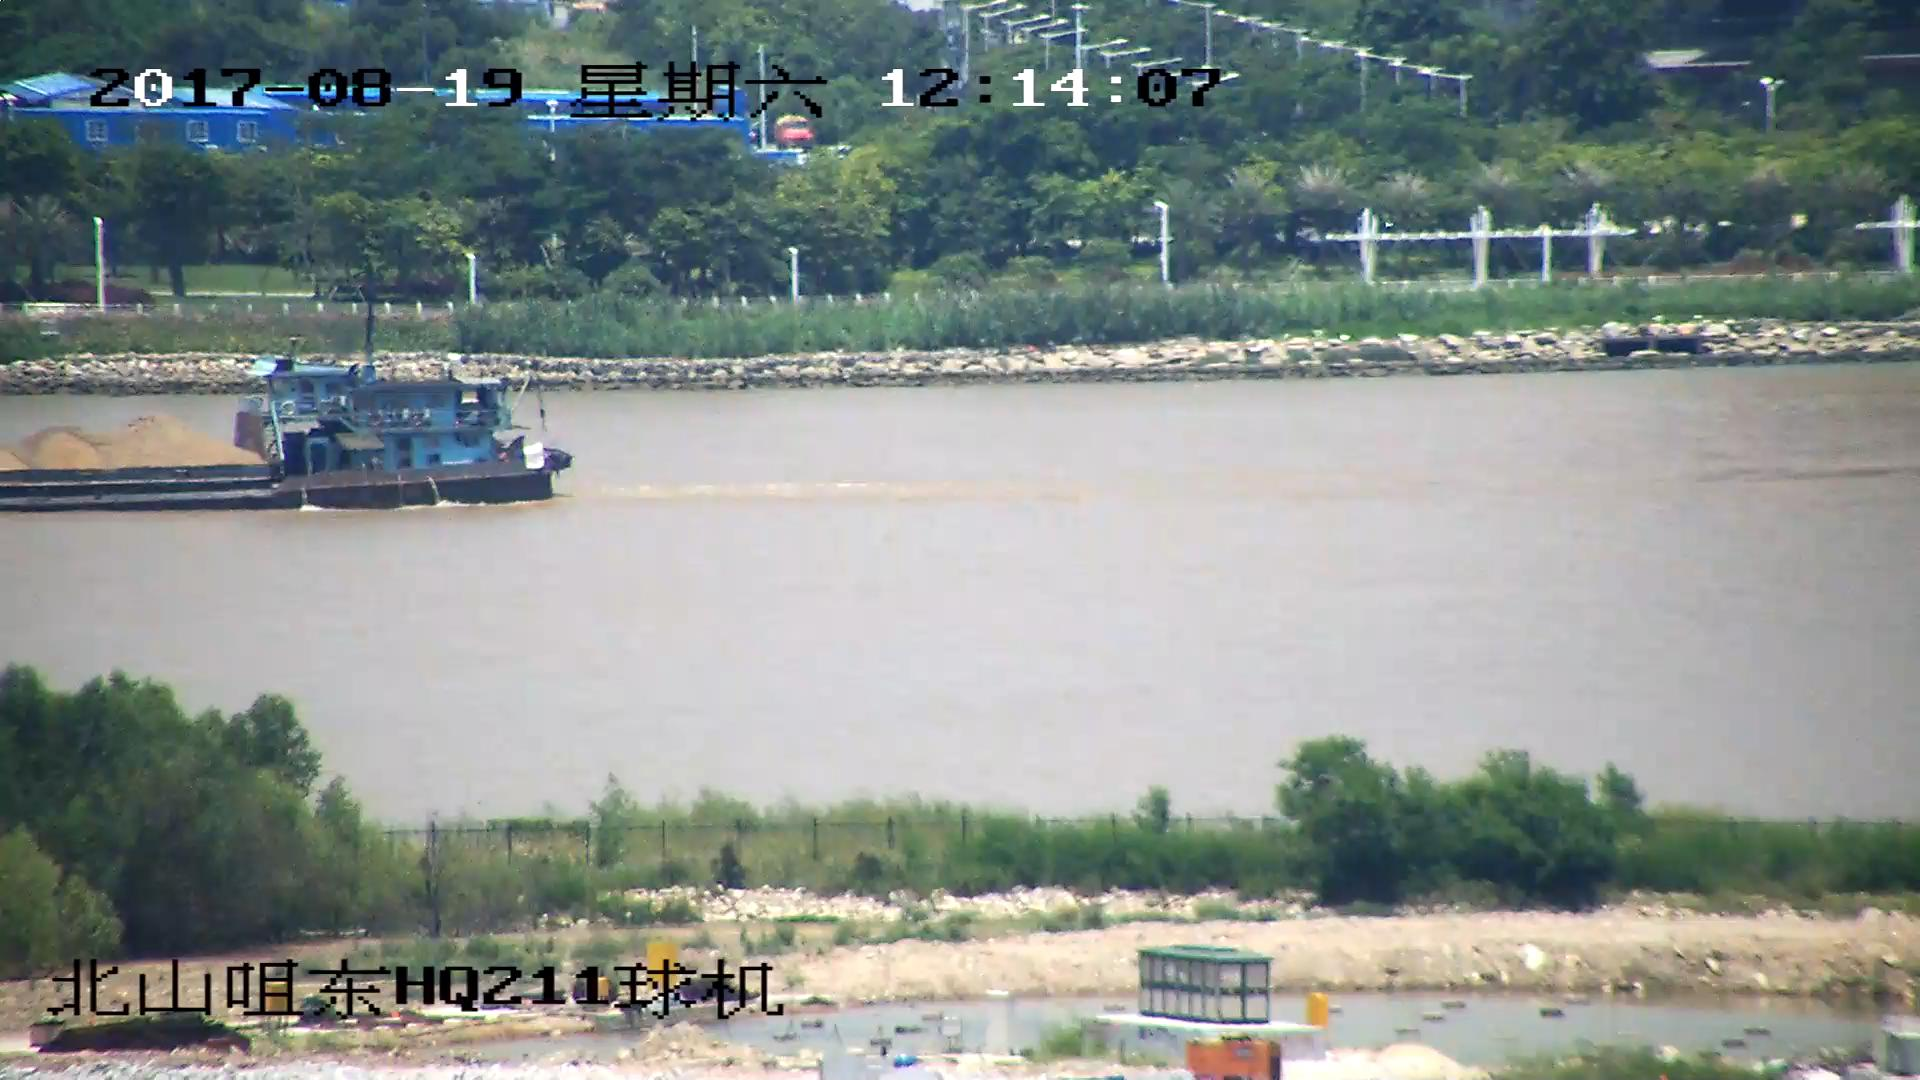ore carrier: (1, 324, 569, 510)
